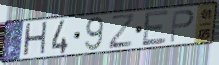4: (50, 18, 69, 56)
9: (82, 16, 106, 52)
E: (141, 8, 170, 48)
H: (21, 20, 49, 59)
P: (169, 8, 196, 44)
Z: (108, 12, 137, 51)
